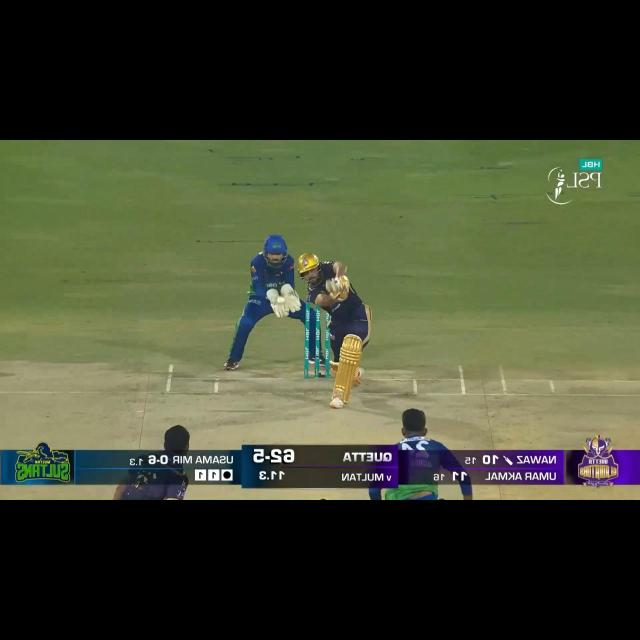bat: (320, 280, 347, 298)
